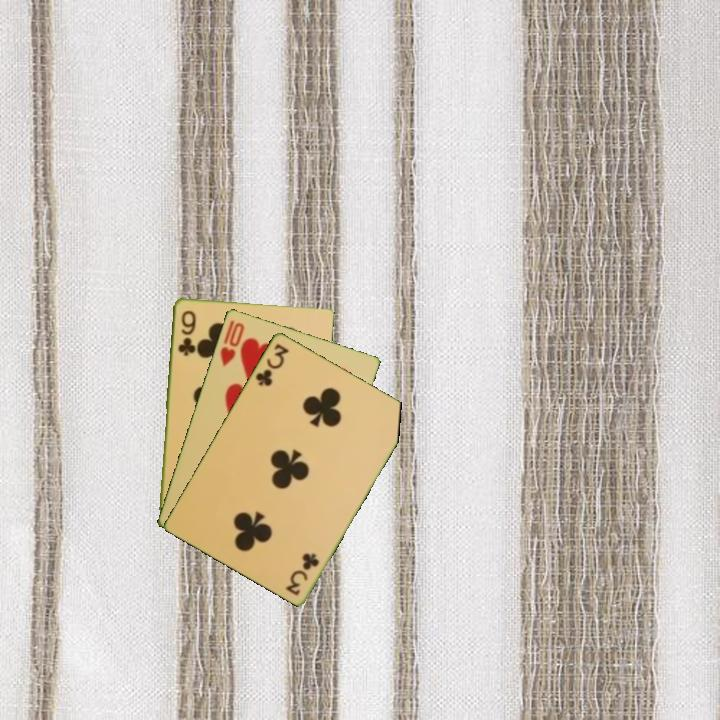10h: (216, 318, 247, 369)
3c: (251, 339, 292, 389), (283, 549, 322, 598)
9c: (174, 306, 198, 358)
